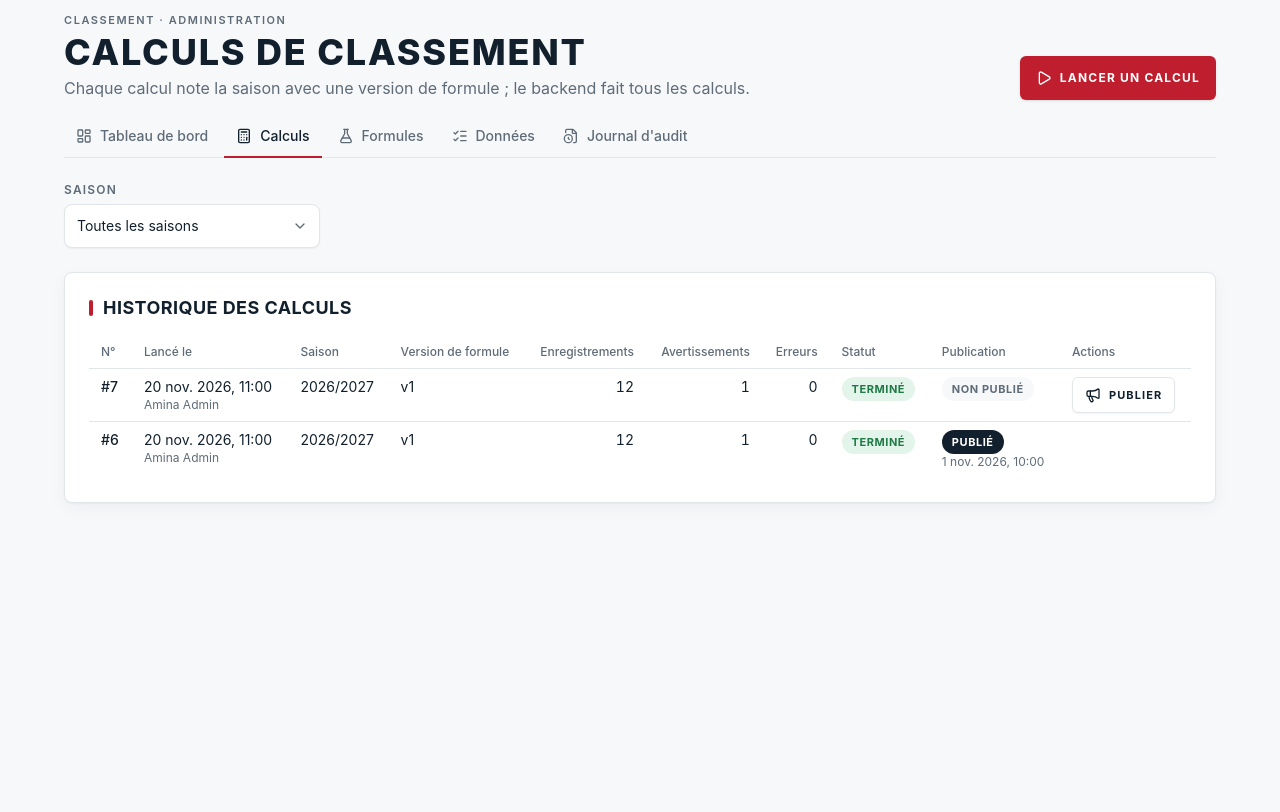
Test: run form › offers only the seasons from 2026–2027 on
This screenshot has width=1280, height=812.
Expected: the link "#7" is shown, x1=101 y1=378 x2=118 y2=394
Click the button "Lancer un calcul". click: [1118, 78]
box: x1=1020 y1=56 x2=1216 y2=100
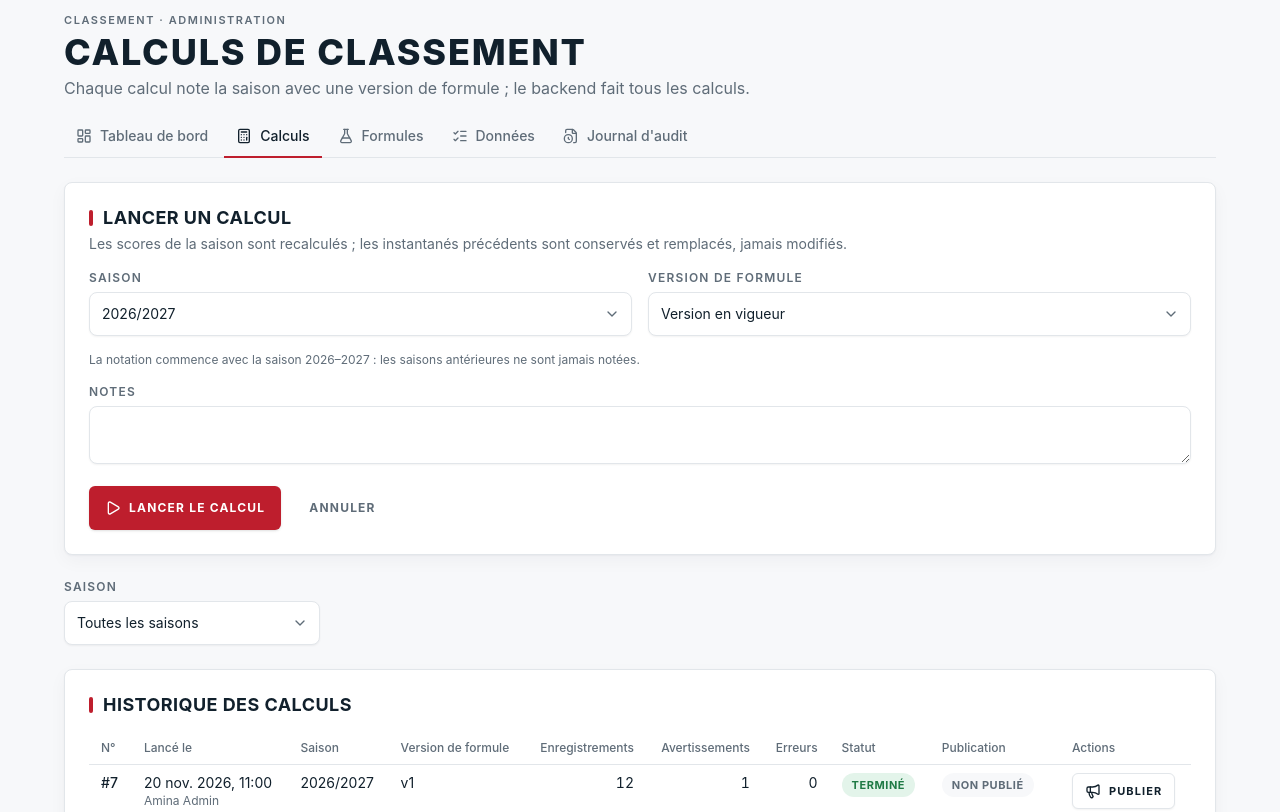
Result: the text "La notation commence avec la saison 2026–2027" is shown at x1=89 y1=352 x2=640 y2=366
